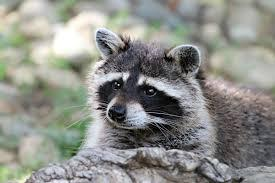raccoon: (54, 6, 275, 183)
